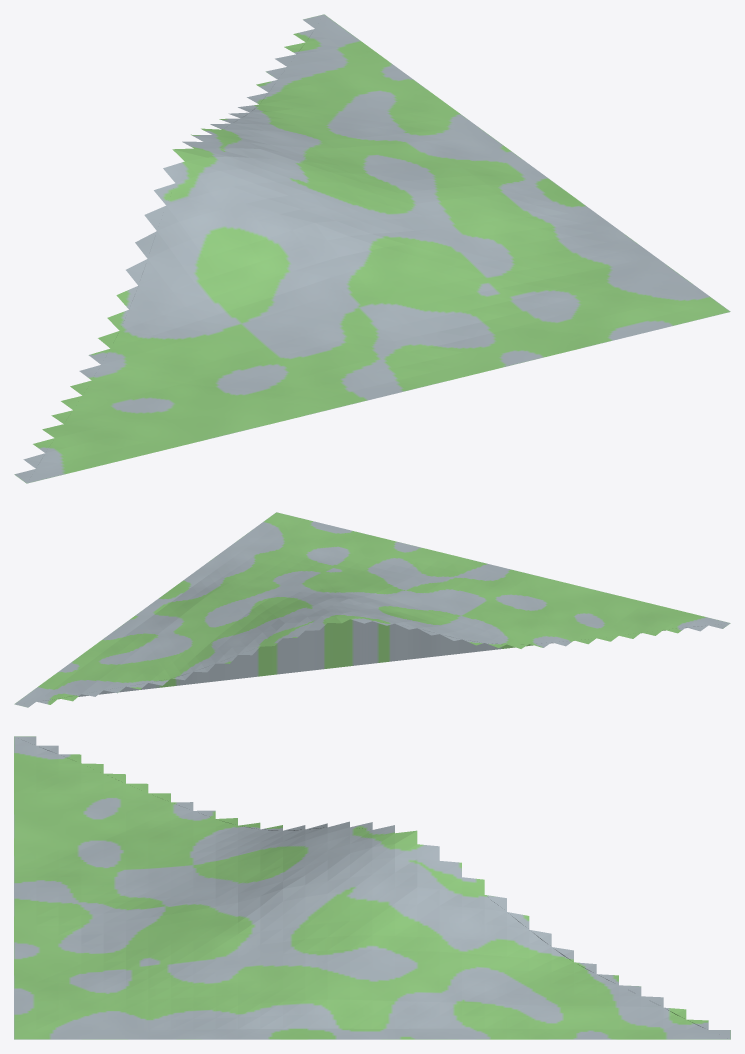
The model's file is Grass_RockyGround_09_NE.obj.
The picture shows the model from 3 angles, top to bottom: view 1: azimuth 30°, elevation 25°; view 2: azimuth 150°, elevation 25°; view 3: azimuth 270°, elevation 25°; orthographic projection. The views are drawn at different scales.
Size of the model in its own units: 10 by 1.03 by 10.
1 material, 1 textured.
